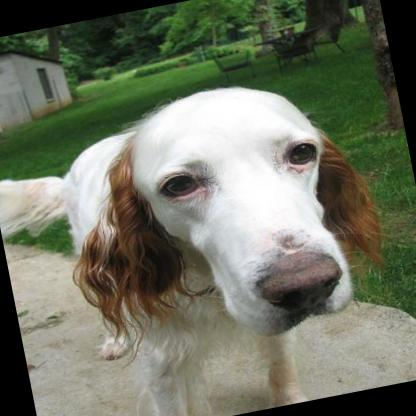English_setter: (0, 58, 412, 416)
